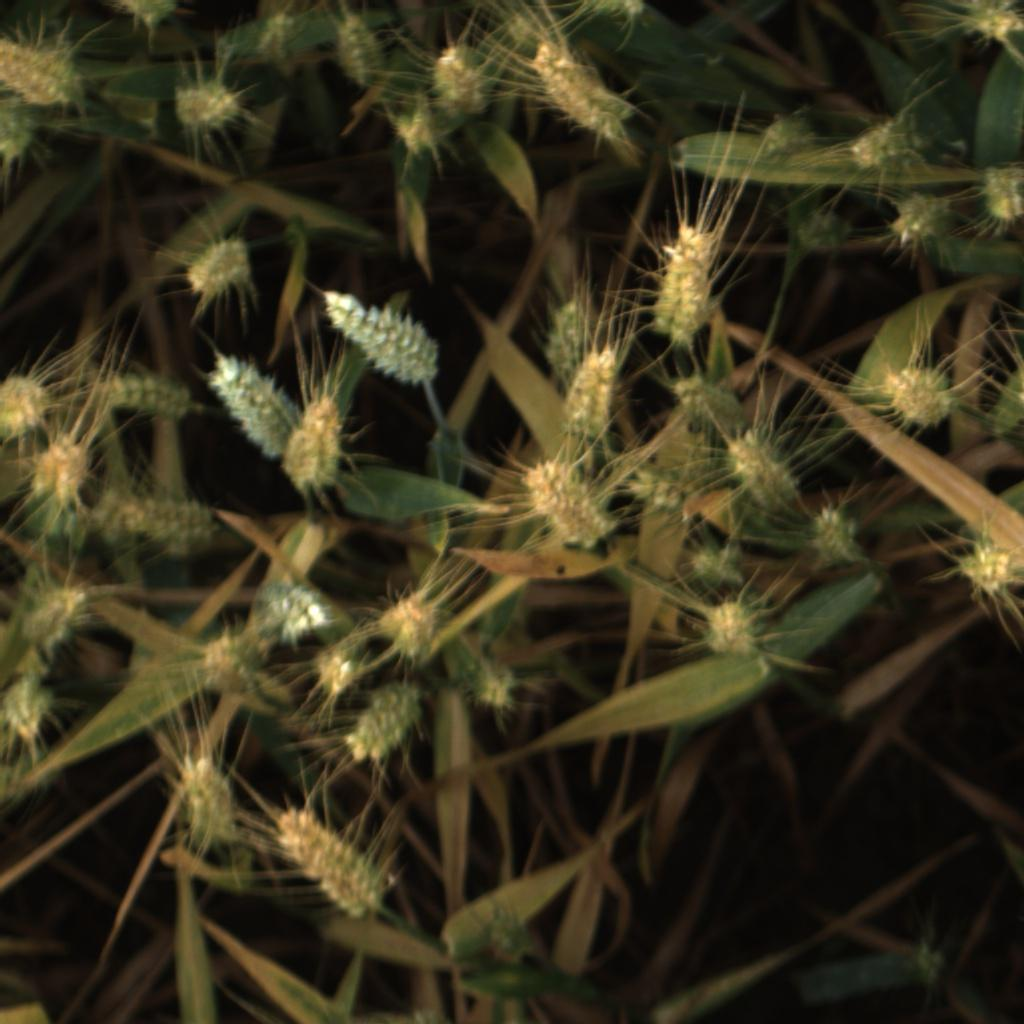0-0: (270, 798, 394, 921), (316, 286, 445, 389), (530, 42, 638, 148), (208, 348, 305, 462), (648, 220, 727, 347), (521, 458, 616, 552), (717, 425, 805, 514), (281, 394, 349, 495), (350, 683, 433, 765), (173, 752, 241, 851), (559, 342, 627, 437), (189, 638, 265, 717), (0, 37, 81, 109), (93, 368, 193, 426), (122, 494, 221, 551), (666, 369, 746, 437), (876, 362, 957, 429), (540, 296, 602, 375), (34, 428, 96, 505), (23, 581, 90, 652), (256, 585, 336, 644), (374, 593, 445, 658), (429, 43, 486, 122), (329, 12, 387, 89), (702, 594, 764, 665), (184, 239, 249, 306), (3, 672, 62, 745), (851, 114, 930, 168), (884, 194, 951, 256), (625, 462, 705, 512), (801, 499, 861, 562), (0, 370, 55, 438), (170, 79, 239, 129), (503, 8, 573, 57), (954, 540, 1013, 598), (392, 85, 437, 156), (977, 162, 1024, 229), (479, 905, 535, 961), (469, 657, 524, 713), (791, 207, 857, 253), (309, 645, 363, 701), (685, 544, 749, 591), (763, 111, 821, 161), (90, 486, 139, 545), (963, 0, 1024, 46), (255, 10, 306, 63), (0, 96, 40, 161), (111, 0, 178, 33), (915, 941, 947, 988), (582, 0, 646, 18)
